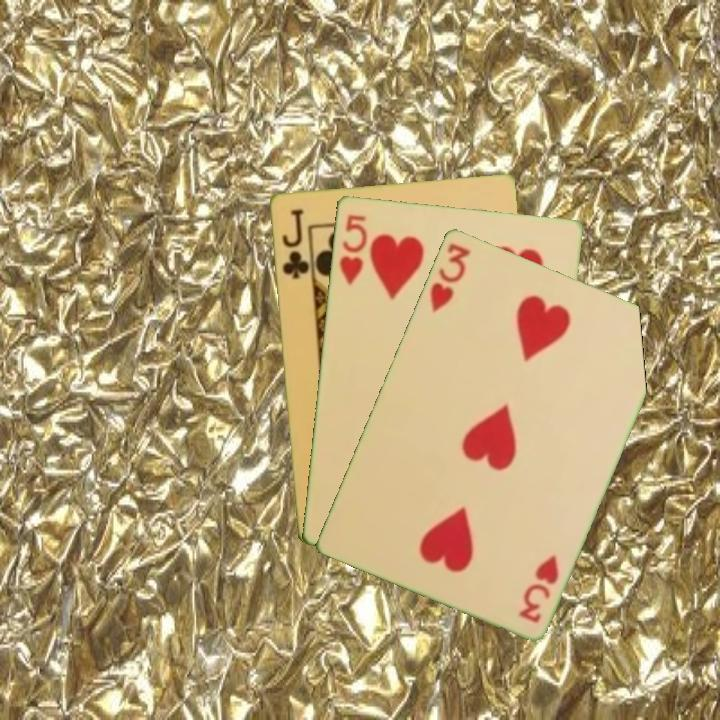3h: (426, 238, 473, 315), (515, 551, 562, 626)
5h: (335, 210, 370, 288)
Jc: (277, 204, 311, 281)
